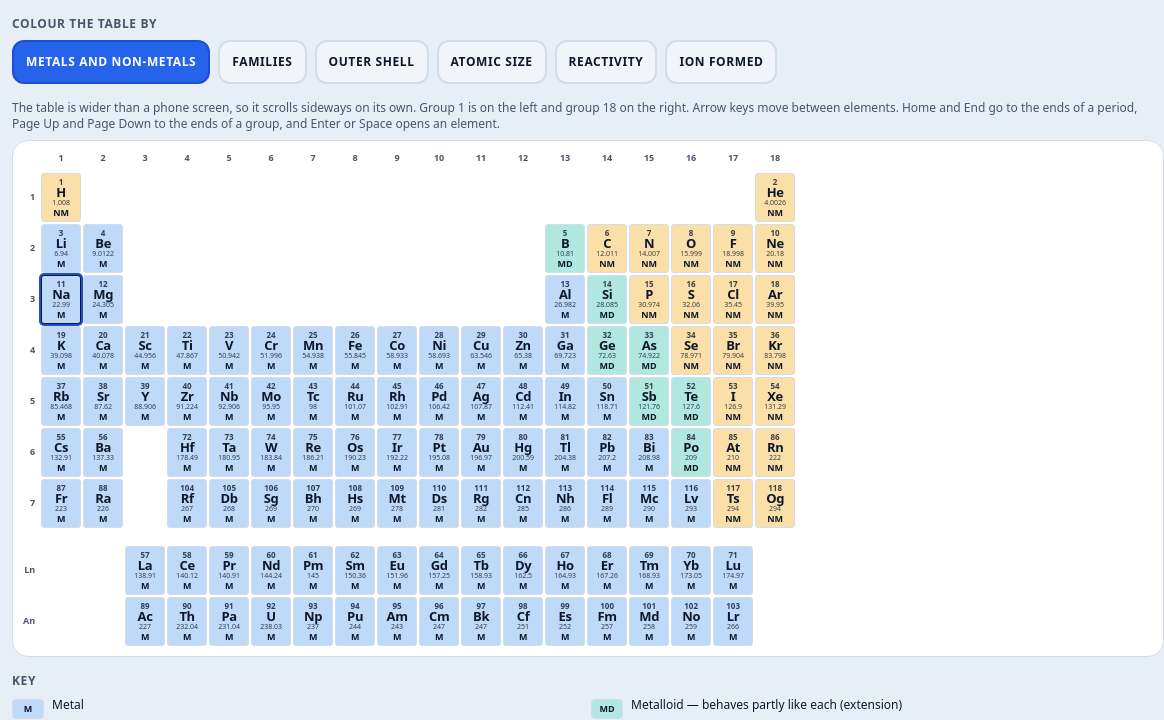
Scenario: PeriodicTable — view modes › changes the badges and the legend when the mode changes
The width and height of the screenshot is (1164, 720).
Check: the text "Metal" is shown, box 52,696 -> 84,712
Click the button "Outer shell". click: (372, 62)
box: 314,40 -> 428,84
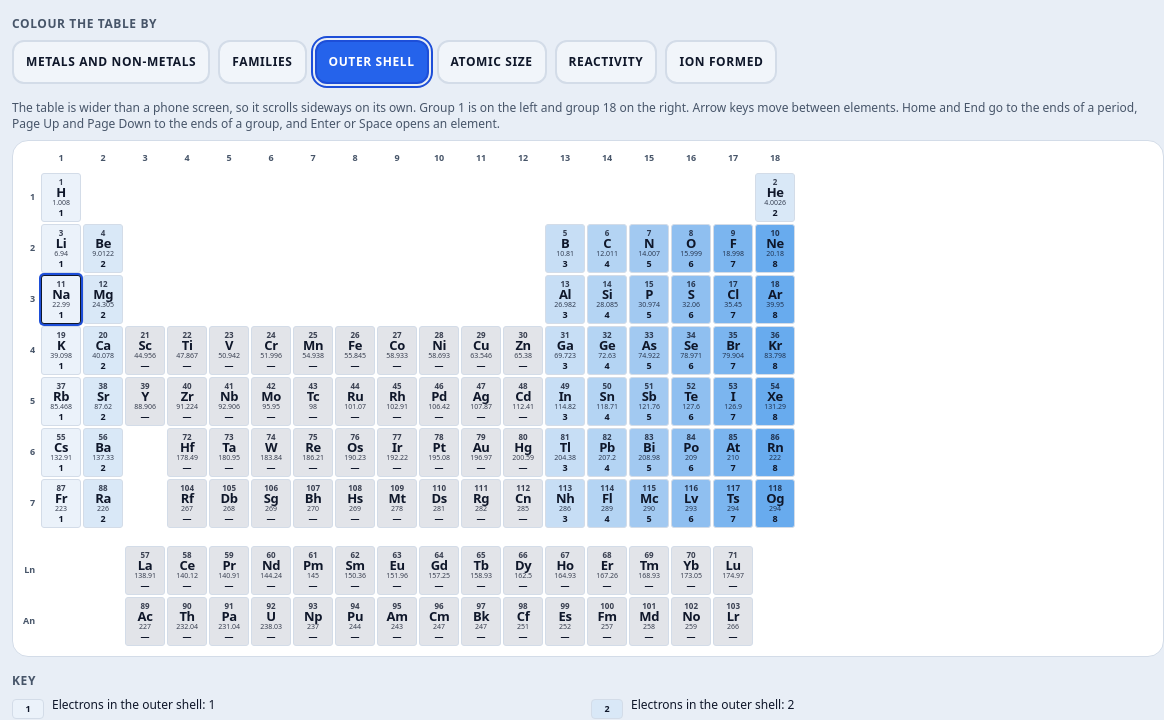
Check: the text "Electrons in the outer shell: 1" is shown, box 52,696 -> 215,712
